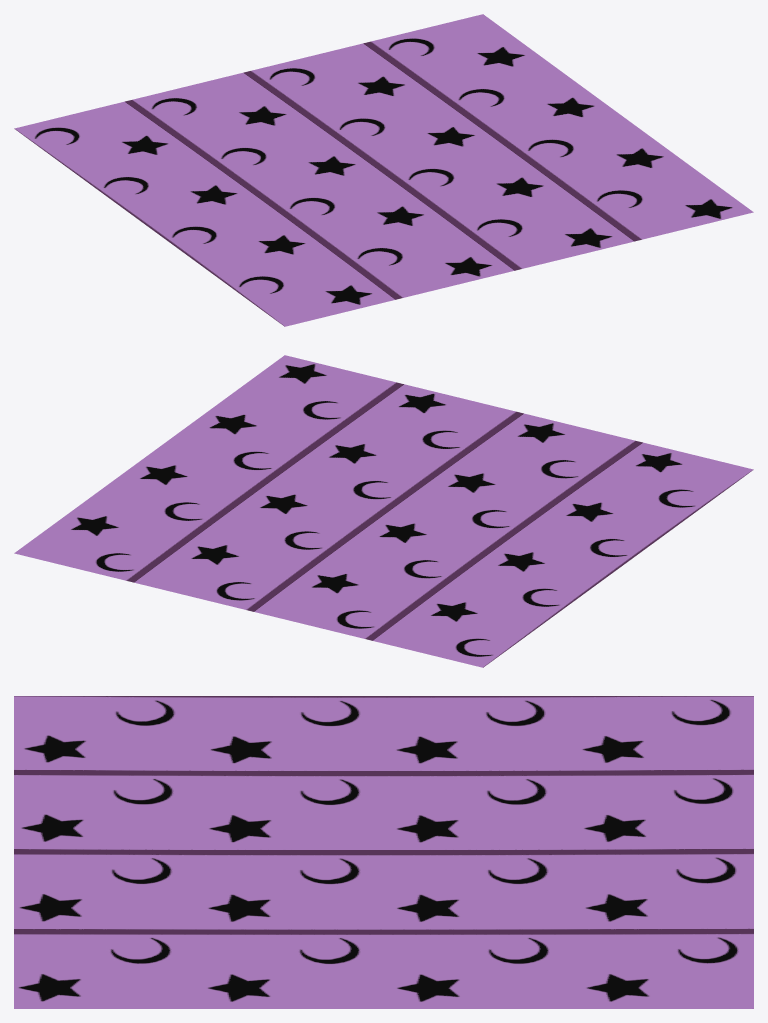
The model's file is wall.obj.
3 renders of one model, top to bottom at view 1: azimuth 30°, elevation 25°; view 2: azimuth 150°, elevation 25°; view 3: azimuth 270°, elevation 25°, orthographic. The views are drawn at different scales.
Parts seen in each view (by area): view 1: Cube.011; view 2: Cube.011; view 3: Cube.011.
Part boxes in pixels (x1,y1,x2,y2): Cube.011: (14,14,753,326); Cube.011: (14,355,753,667); Cube.011: (14,696,753,1008).
Bounding box in the file's own units: 2 × 0 × 2.
1 material, 1 textured.
